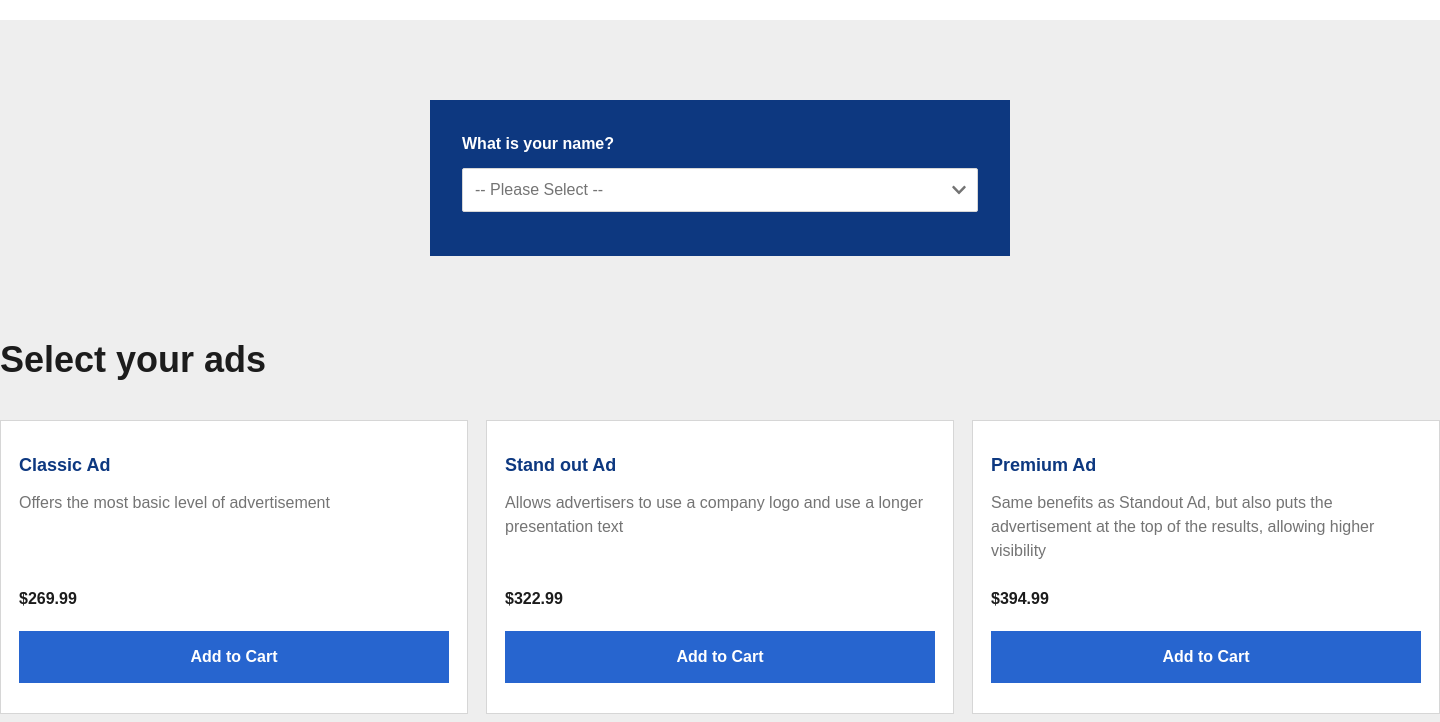
Test: <App /> › Cart Total Display › Non Privileged Customers (default) › should display correct total ammount if non privileged customer is selected
The image size is (1440, 722).
Select "The Kettle Black" in the dropdown with test id "userName-select" at (720, 190), box x1=462 y1=168 x2=978 y2=212
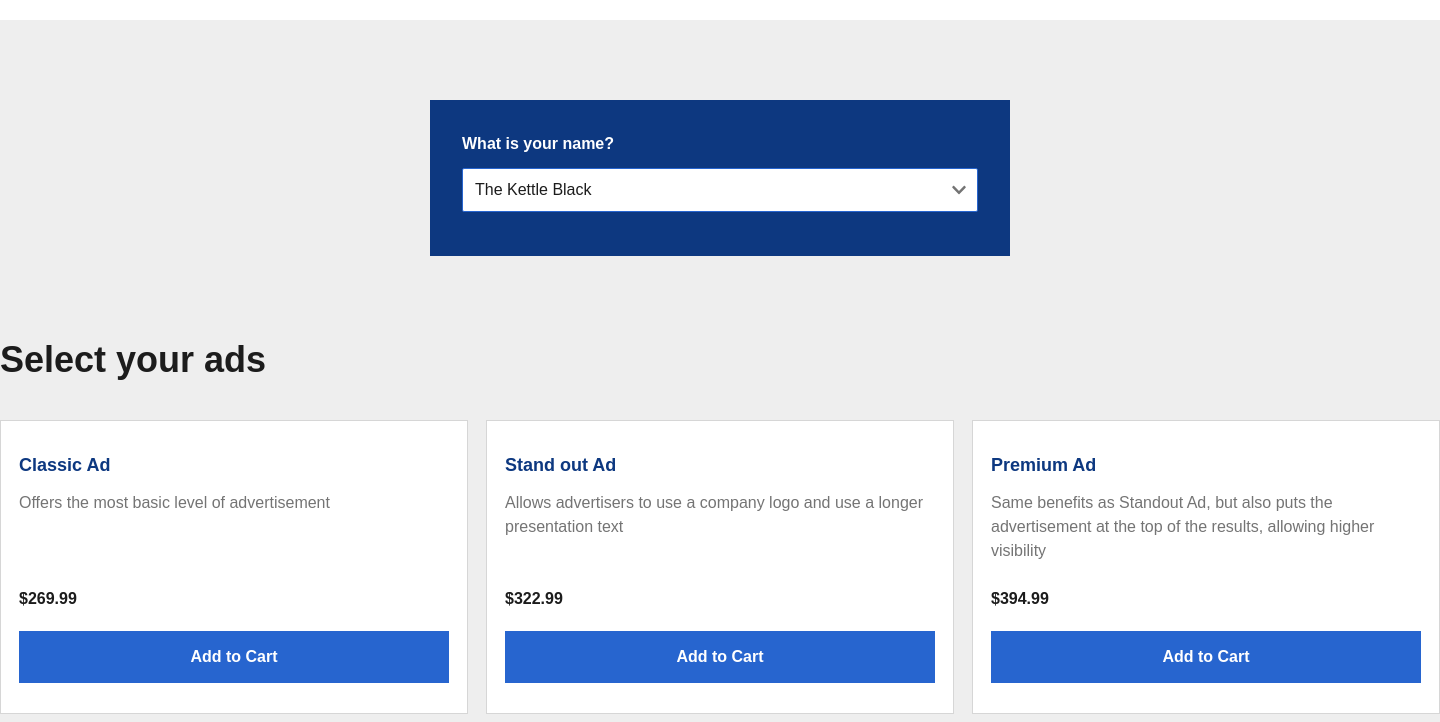
Click the button with test id "classic-add-to-cart-btn".
click(234, 657)  # box x1=19 y1=631 x2=449 y2=683
(page scrolled)
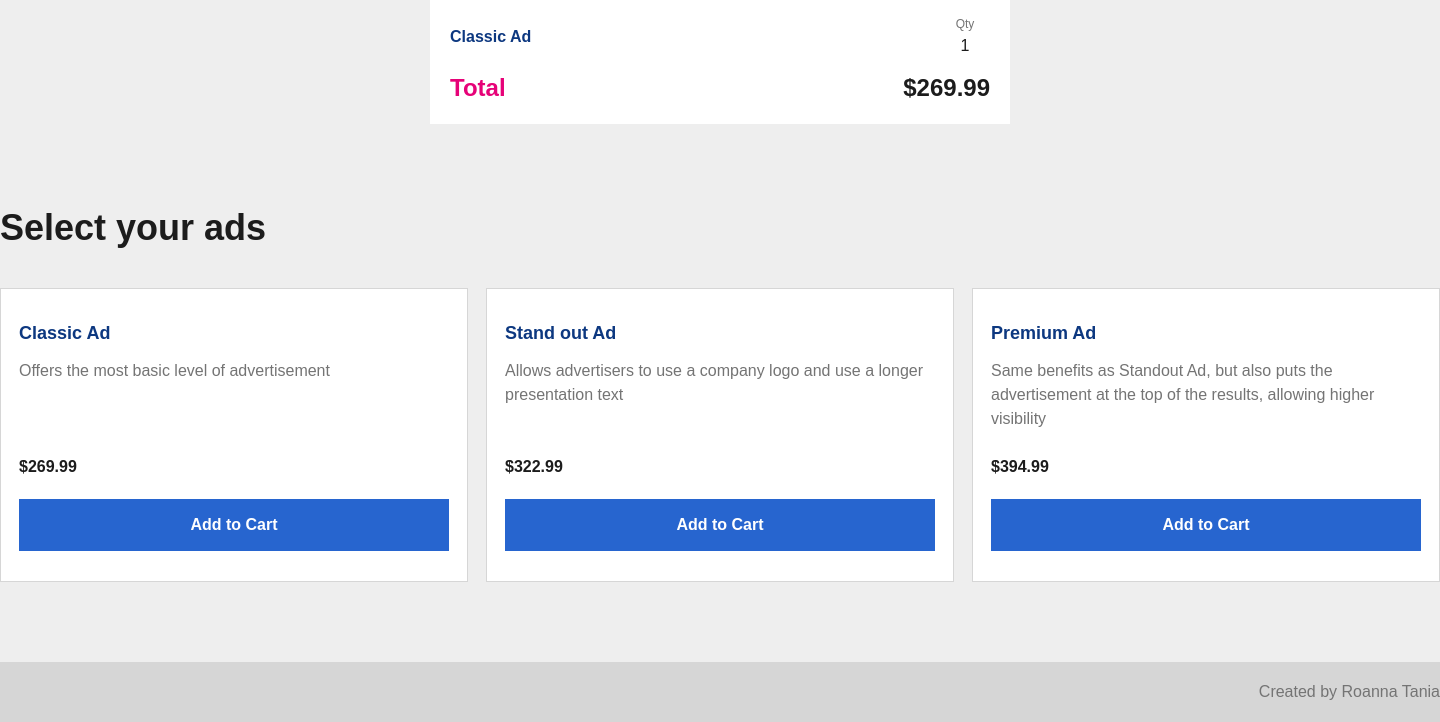
Click the button with test id "standout-add-to-cart-btn".
click(720, 525)  # box x1=505 y1=499 x2=935 y2=551
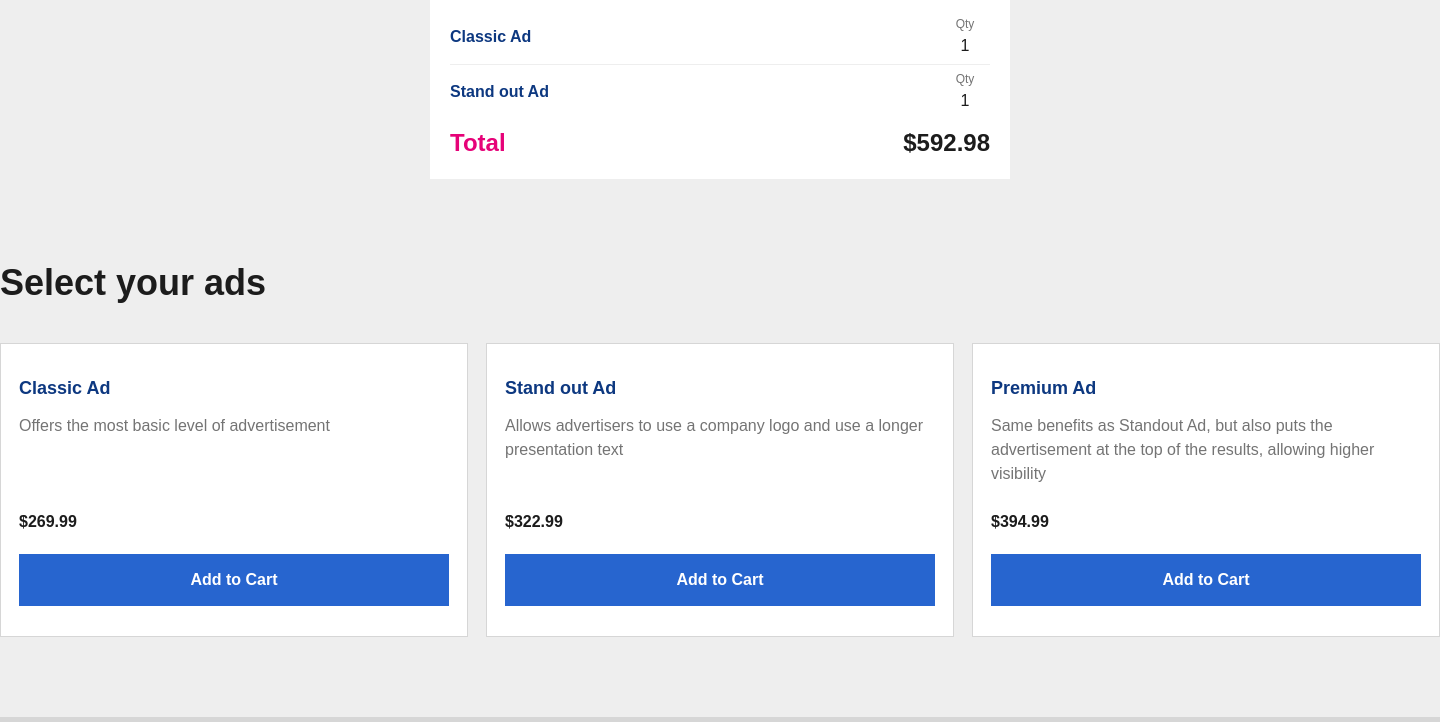
Click the button with test id "premium-add-to-cart-btn".
click(1206, 580)  # box x1=991 y1=554 x2=1421 y2=606
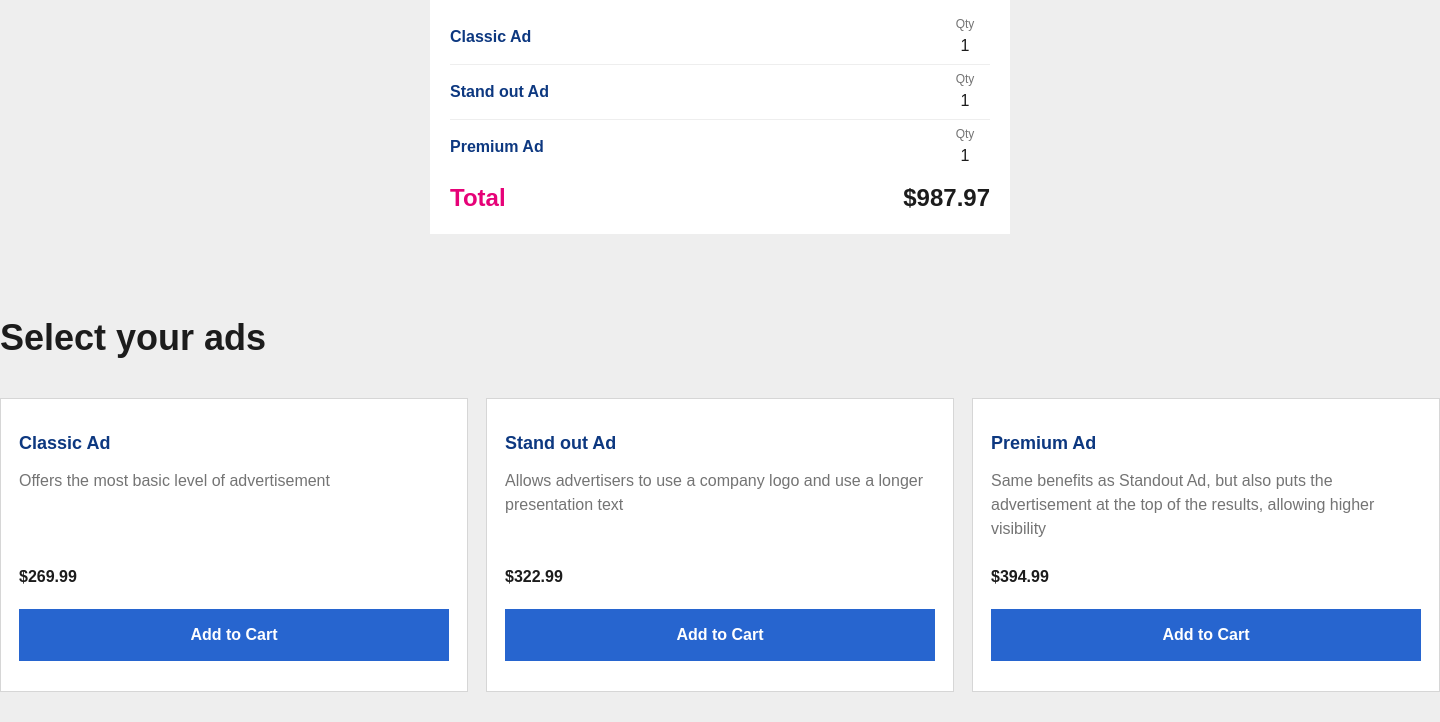
Expected: the text with test id "cart-total" reads "$987.97", x1=903 y1=184 x2=990 y2=211
